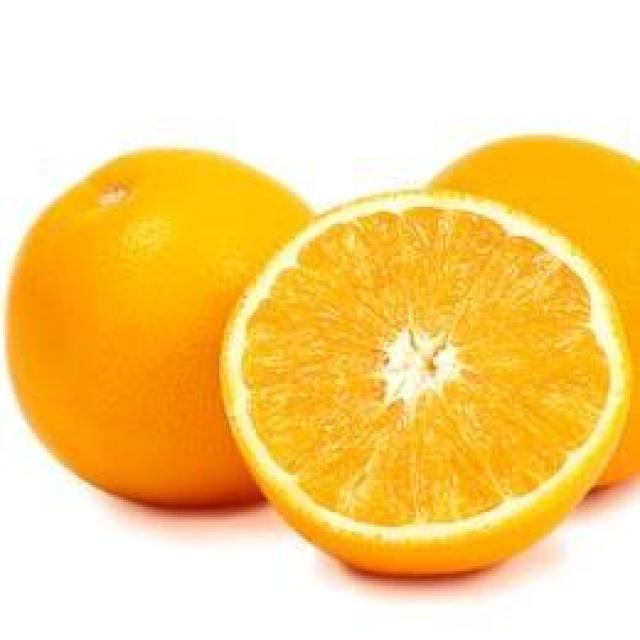Orange: (234, 189, 626, 573), (4, 141, 224, 515)
